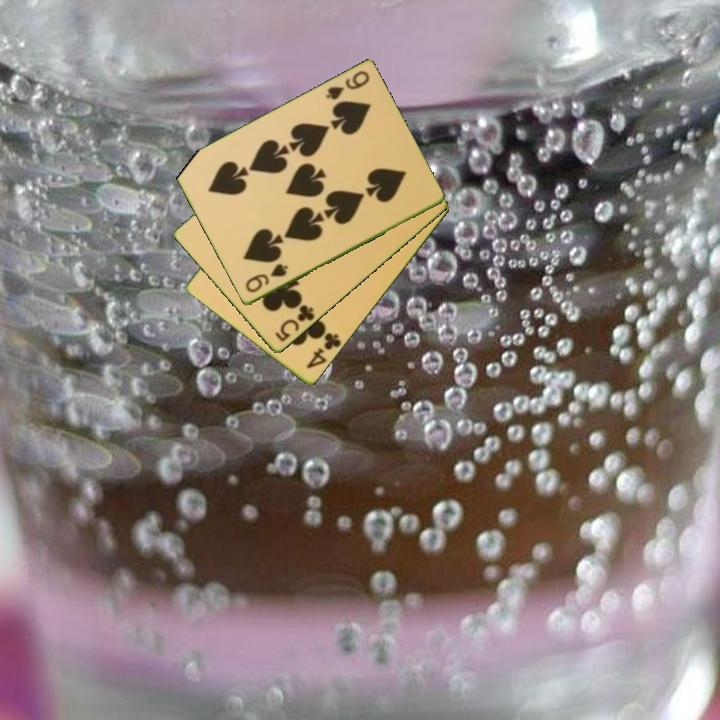4c: (303, 327, 344, 372)
5c: (271, 301, 318, 345)
9s: (322, 67, 372, 103), (242, 260, 291, 296)
